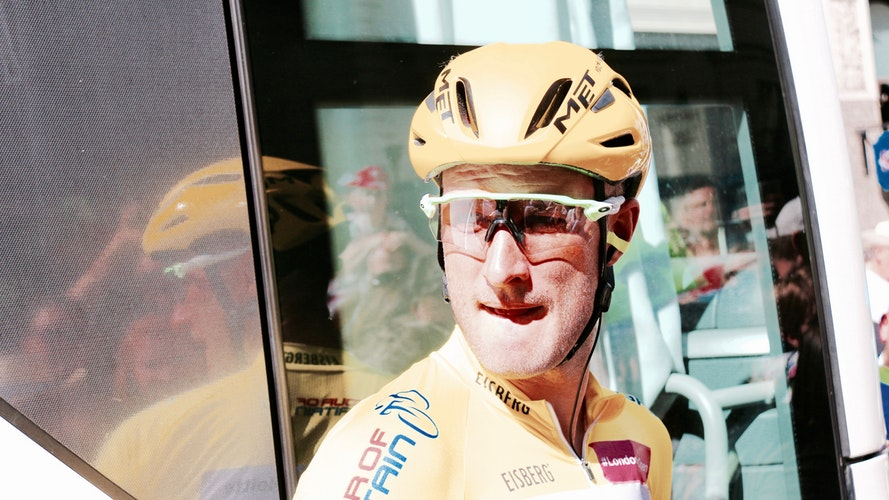helmet: (403, 33, 639, 238)
